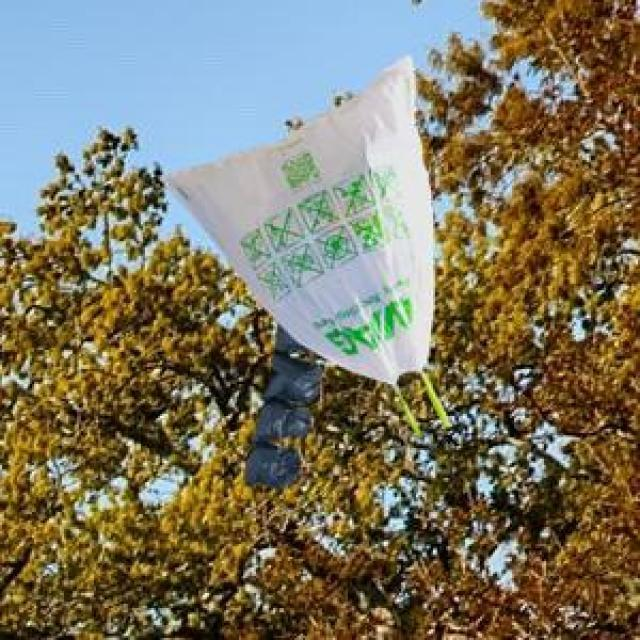miscellaneous trash: (241, 320, 318, 484)
